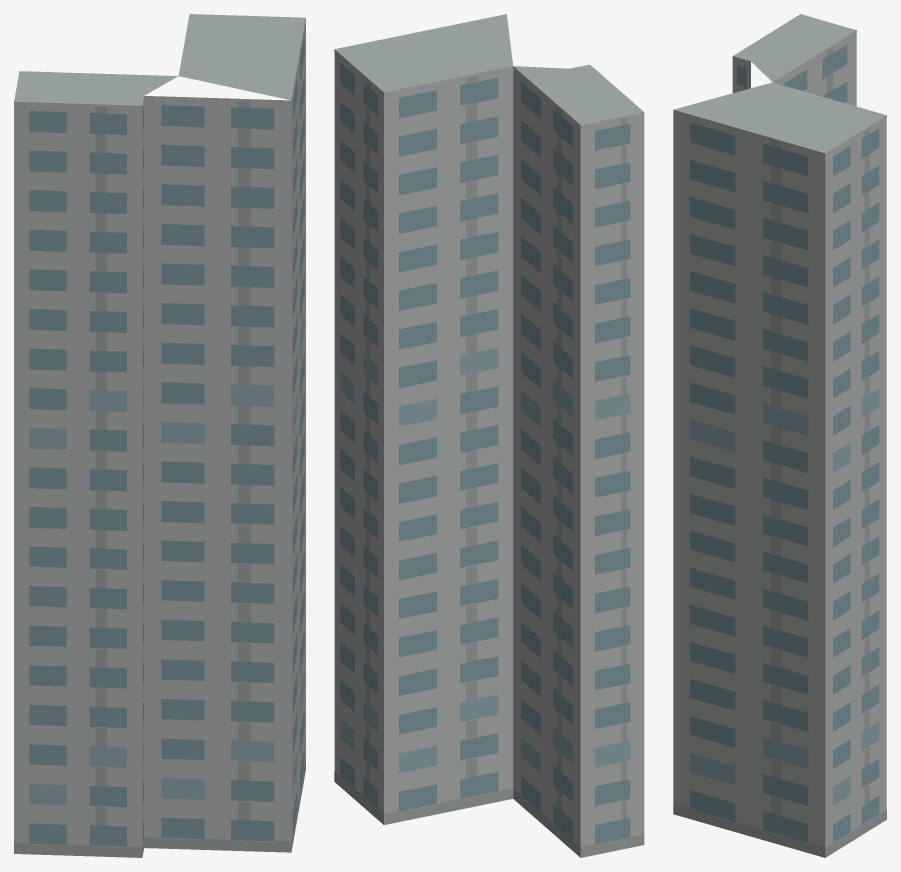
Rendered from residential-506f357e-c7c5-4d95-ad62-d660056668ce.glb.
3 views of the same model, side by side, from view 1: azimuth 30°, elevation 25°; view 2: azimuth 150°, elevation 25°; view 3: azimuth 270°, elevation 25° (orthographic). The views are drawn at different scales.
Parts seen in each view (by area): view 1: residential-506f357e-c7c5-4d95-ad62-d660056668ce.tmp; view 2: residential-506f357e-c7c5-4d95-ad62-d660056668ce.tmp; view 3: residential-506f357e-c7c5-4d95-ad62-d660056668ce.tmp.
Boxes of the visible parts, bbox=[...] form: residential-506f357e-c7c5-4d95-ad62-d660056668ce.tmp: bbox=[14, 14, 305, 857]; residential-506f357e-c7c5-4d95-ad62-d660056668ce.tmp: bbox=[334, 14, 644, 857]; residential-506f357e-c7c5-4d95-ad62-d660056668ce.tmp: bbox=[673, 14, 886, 857].
Bounding box in the file's own units: 31.83 × 75 × 20.62.
